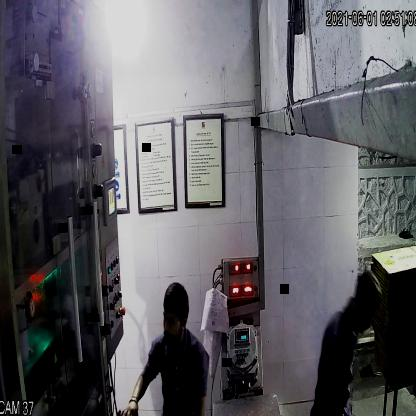no_goggles: (160, 309, 192, 334)
